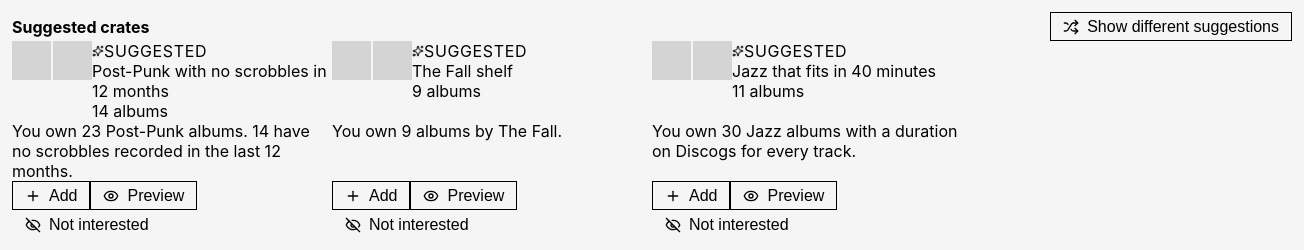
CrateSuggestions › shows different suggestions and disables itself once exhausted
This screenshot has width=1304, height=250.
Check: the text "That's all the suggestions for today." is not shown
Click the button "Show different suggestions": (1171, 27) left=1050, top=12, right=1292, bottom=41
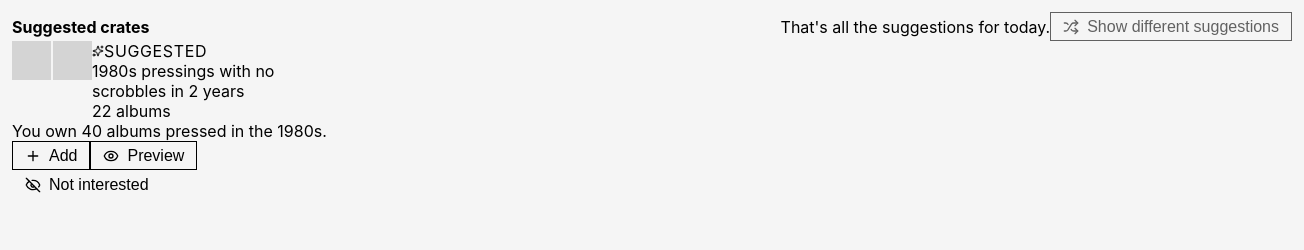
Check: the heading "1980s pressings with no scrobbles in 2 years" is shown, box left=92, top=61, right=274, bottom=101
Check: the button "Show different suggestions" is disabled, box left=1050, top=12, right=1292, bottom=41
Check: the text "That's all the suggestions for today." is shown, box left=781, top=17, right=1050, bottom=37
